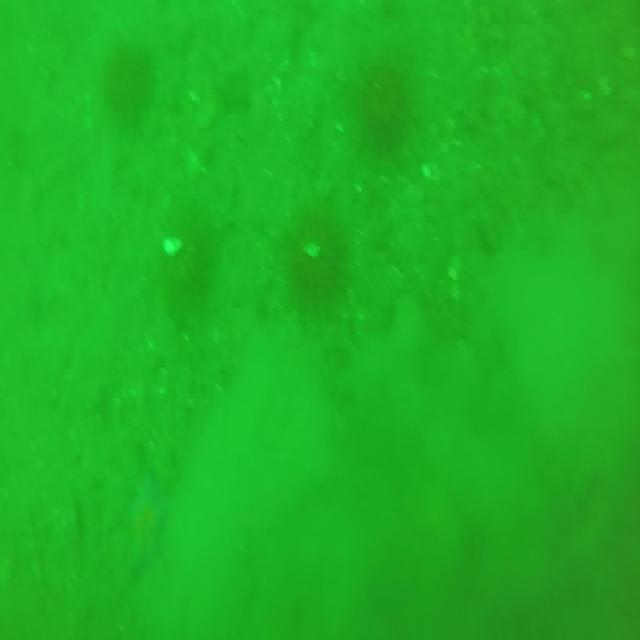echinus: (274, 212, 352, 314), (101, 43, 155, 128), (358, 66, 408, 148)
starfish: (127, 477, 174, 570)
